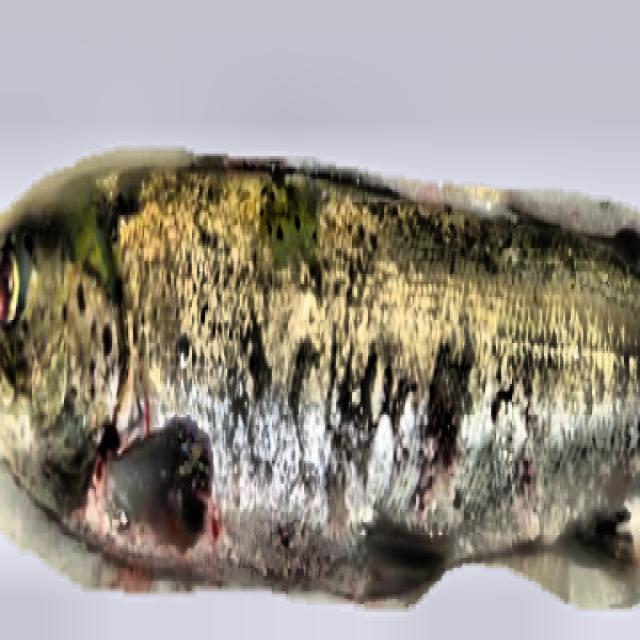mild_red: (127, 177, 639, 586)
